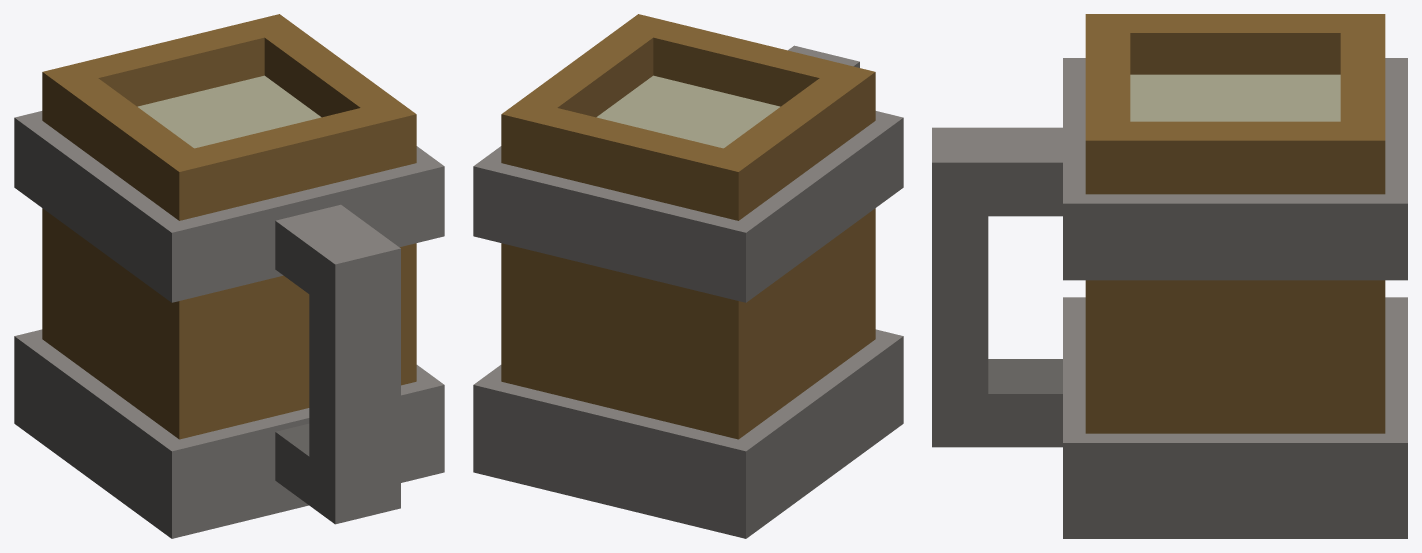
Rendered from SM_Prop_Drink_02.glb.
The picture shows the model from 3 angles, left to right: view 1: azimuth 30°, elevation 25°; view 2: azimuth 150°, elevation 25°; view 3: azimuth 270°, elevation 25°; orthographic projection. The views are drawn at different scales.
Visible parts, largest first — view 1: SM_Prop_Drink_02; view 2: SM_Prop_Drink_02; view 3: SM_Prop_Drink_02.
Boxes of the visible parts, x1,y1,x2,y2 form: SM_Prop_Drink_02: (14, 14, 444, 538); SM_Prop_Drink_02: (473, 14, 903, 538); SM_Prop_Drink_02: (932, 14, 1407, 538).
Size of the model in its own units: 0.00422 by 0.00525 by 0.00582.
1 material, 1 textured.
